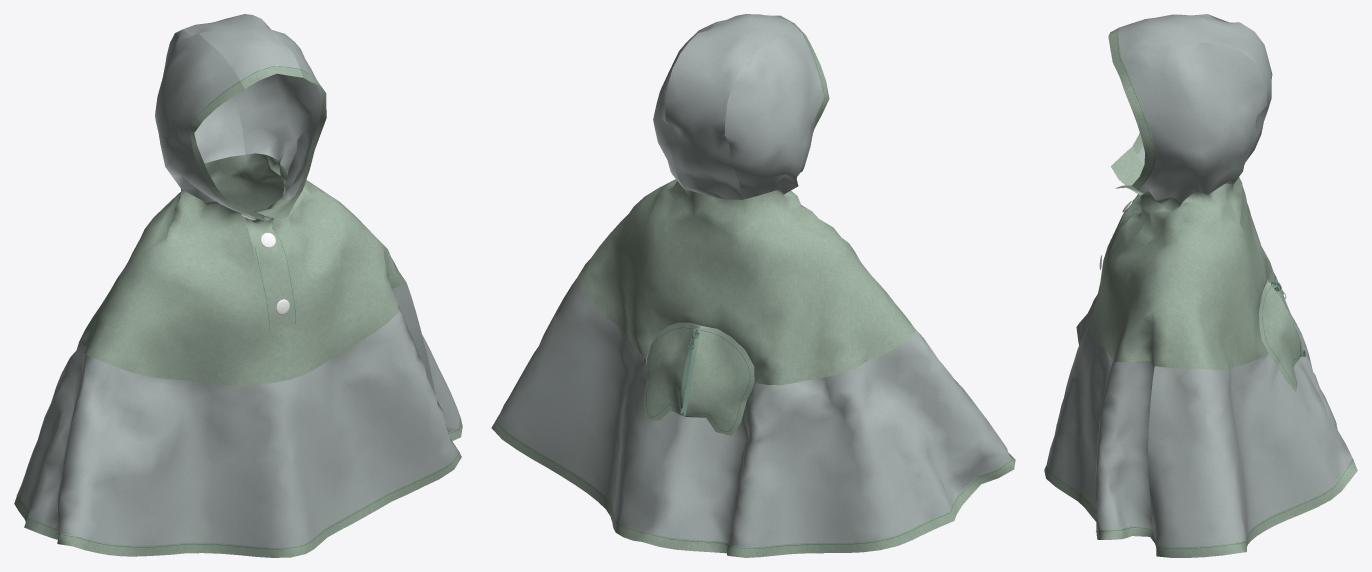
Rendered from Azul.glb.
3 views of the same model, side by side, from view 1: azimuth 30°, elevation 25°; view 2: azimuth 150°, elevation 25°; view 3: azimuth 270°, elevation 25° (orthographic). The views are drawn at different scales.
Parts seen in each view (by area): view 1: Cloth; view 2: Cloth; view 3: Cloth.
Boxes of the visible parts, left/top/right/bottom form: Cloth: left=14, top=14, right=462, bottom=557; Cloth: left=491, top=14, right=1015, bottom=557; Cloth: left=1044, top=14, right=1357, bottom=557.
Size of the model in its own units: 0.5659 by 0.5664 by 0.3467.
13 materials, 12 textured.
